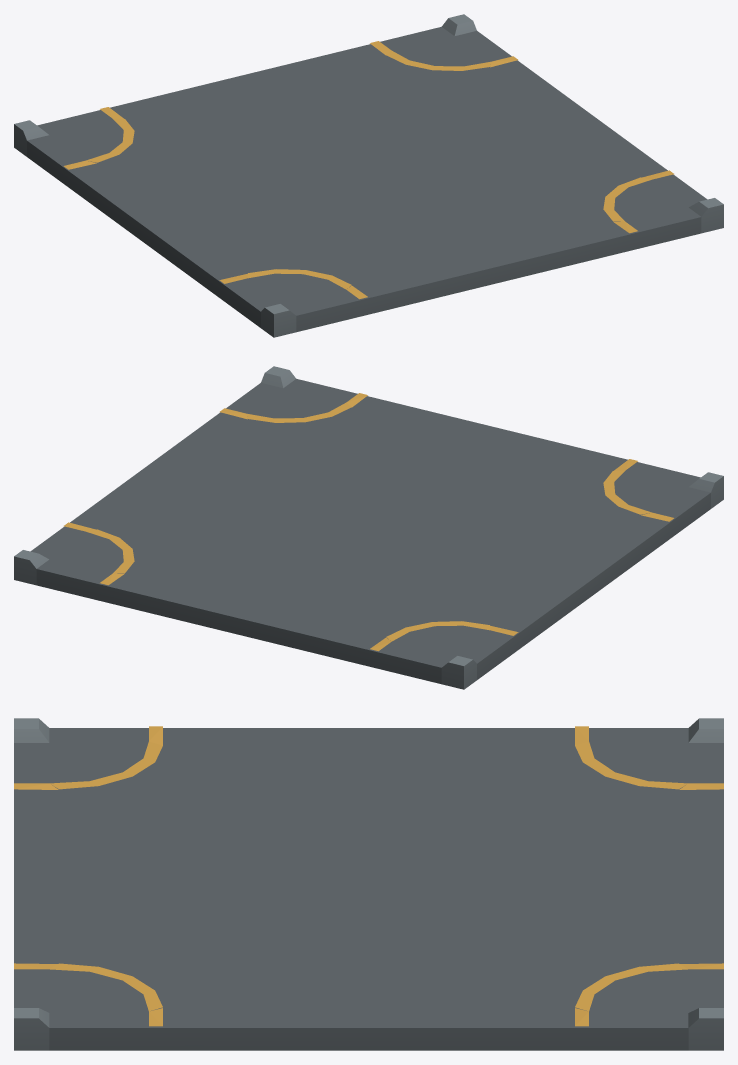
The model's file is RoadJunction.glb.
3 views of the same model, one above another, from view 1: azimuth 30°, elevation 25°; view 2: azimuth 150°, elevation 25°; view 3: azimuth 270°, elevation 25° (orthographic). The views are drawn at different scales.
Parts seen in each view (by area): view 1: road_corner.001, road_corner.005, road_corner.004, road_corner.003, road_corner.002; view 2: road_corner.001, road_corner.002, road_corner.003, road_corner.004, road_corner.005; view 3: road_corner.001, road_corner.003, road_corner.004, road_corner.002, road_corner.005.
Part boxes in pixels (<box>): road_corner.001: <box>14,14,723,337</box>; road_corner.005: <box>370,41,517,70</box>; road_corner.004: <box>219,269,367,299</box>; road_corner.003: <box>64,107,134,169</box>; road_corner.002: <box>603,170,674,233</box>; road_corner.001: <box>14,366,723,689</box>; road_corner.002: <box>220,393,367,422</box>; road_corner.003: <box>370,621,518,651</box>; road_corner.004: <box>603,459,673,521</box>; road_corner.005: <box>63,522,134,585</box>; road_corner.001: <box>14,718,723,1050</box>; road_corner.003: <box>575,726,723,789</box>; road_corner.004: <box>14,726,162,789</box>; road_corner.002: <box>14,963,162,1026</box>; road_corner.005: <box>575,963,723,1026</box>.
Bounding box in the file's own units: 2 × 0.1 × 2.
5 materials, 5 textured.
